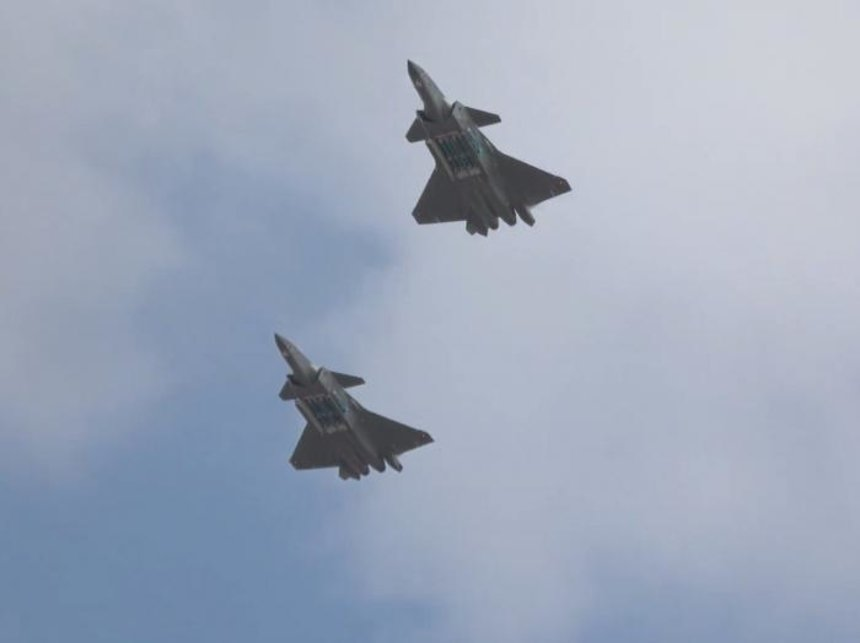J20: (403, 58, 572, 238), (273, 331, 435, 482)
